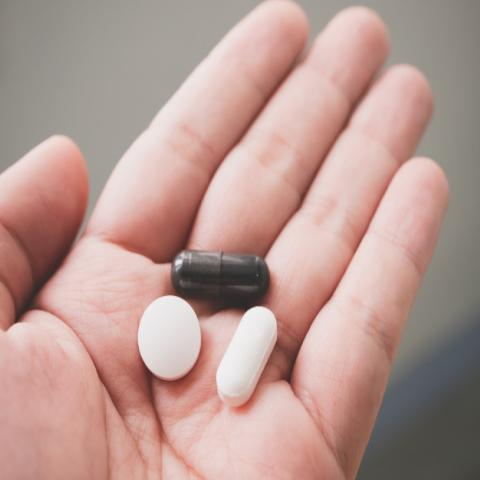Pill: (216, 299, 288, 432), (130, 290, 210, 392)
